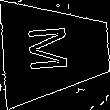M_E: (32, 26, 80, 76)
